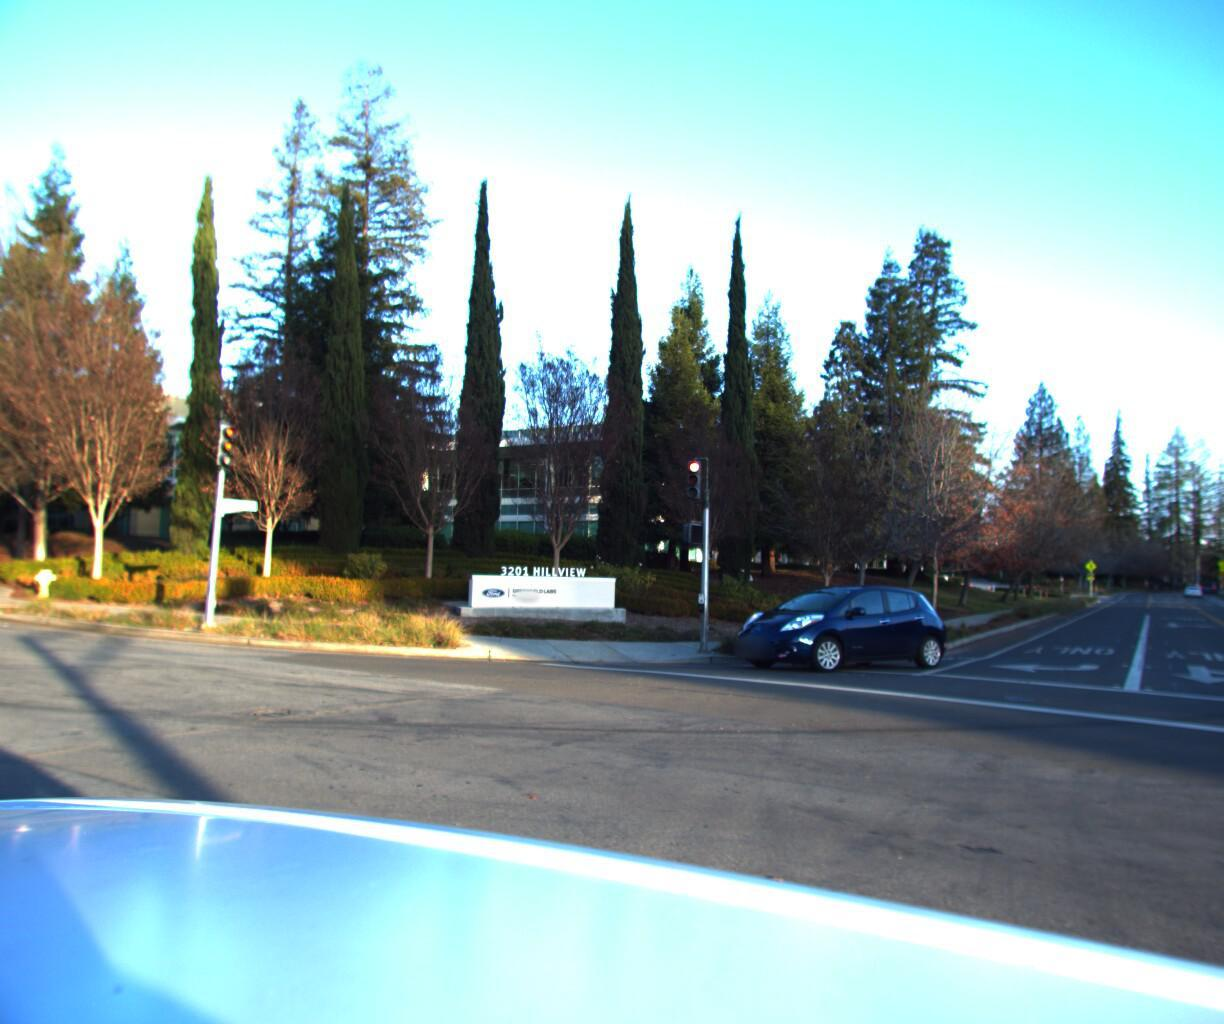car: (706, 580, 948, 684)
